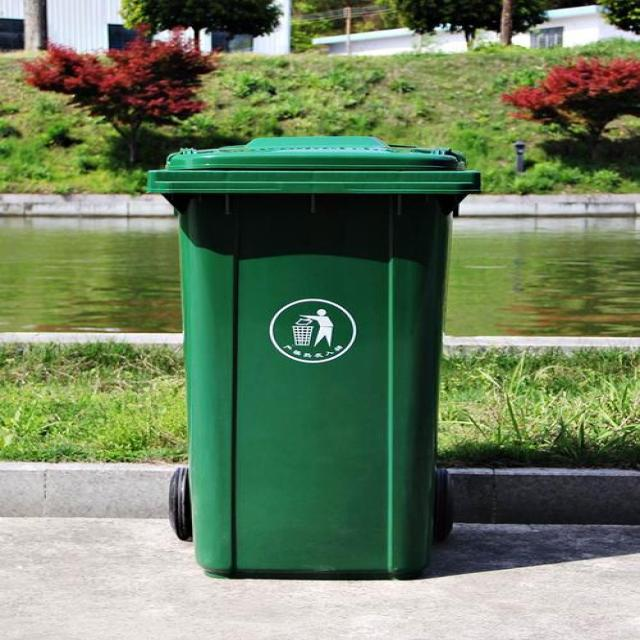garbage_bin: (145, 137, 478, 575)
